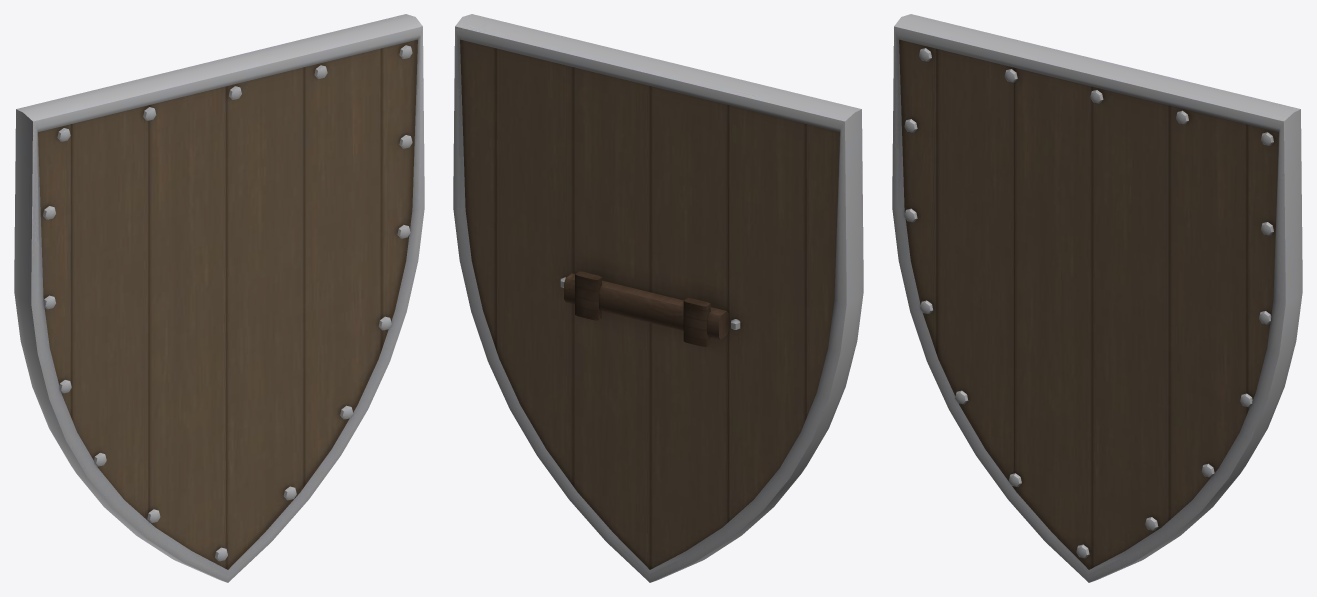
Rendered from skold_riddare.glb.
3 views of the same model, side by side, from view 1: azimuth 30°, elevation 25°; view 2: azimuth 150°, elevation 25°; view 3: azimuth 330°, elevation 25° (orthographic).
Parts seen in each view (by area): view 1: SM_V_skold_riddare, SM_V_skold_riddare_Faste; view 2: SM_V_skold_riddare, SM_V_skold_riddare_Faste; view 3: SM_V_skold_riddare, SM_V_skold_riddare_Faste.
Boxes of the visible parts, <box> form: SM_V_skold_riddare: <box>38,39,417,569</box>; SM_V_skold_riddare_Faste: <box>14,14,424,582</box>; SM_V_skold_riddare: <box>460,39,839,569</box>; SM_V_skold_riddare_Faste: <box>453,14,863,582</box>; SM_V_skold_riddare: <box>899,39,1278,569</box>; SM_V_skold_riddare_Faste: <box>892,14,1302,582</box>.
Bounding box in the file's own units: 0.516 × 0.6353 × 0.065.
Materials: 1 (1 with a texture image).
